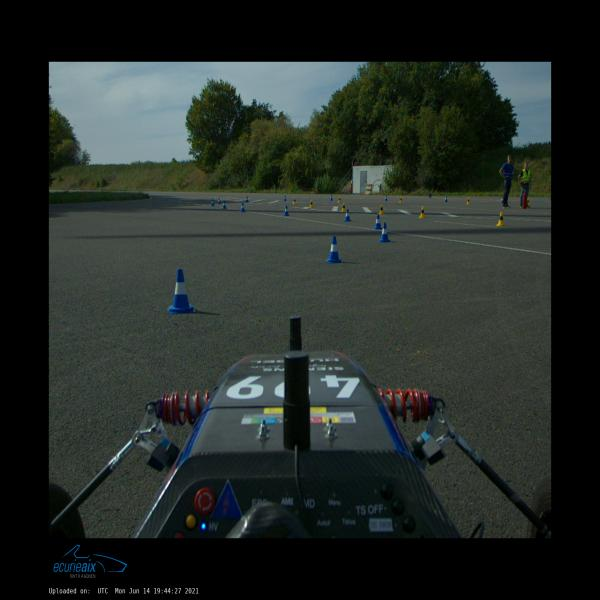blue_cone: (168, 269, 195, 314), (325, 236, 343, 263), (379, 223, 391, 242), (374, 214, 382, 230), (344, 209, 352, 222), (284, 205, 290, 216), (241, 203, 246, 212), (222, 201, 227, 209), (245, 196, 250, 202), (211, 199, 215, 206), (444, 196, 448, 202), (217, 198, 221, 204), (283, 196, 287, 201), (384, 195, 387, 201), (330, 195, 333, 201), (501, 197, 503, 203)
yellow_cone: (496, 212, 505, 226), (419, 206, 426, 218), (379, 204, 384, 215), (309, 200, 314, 208), (342, 203, 346, 212), (399, 197, 403, 203), (292, 198, 296, 204), (467, 197, 470, 204), (528, 198, 530, 206), (338, 197, 341, 202)
